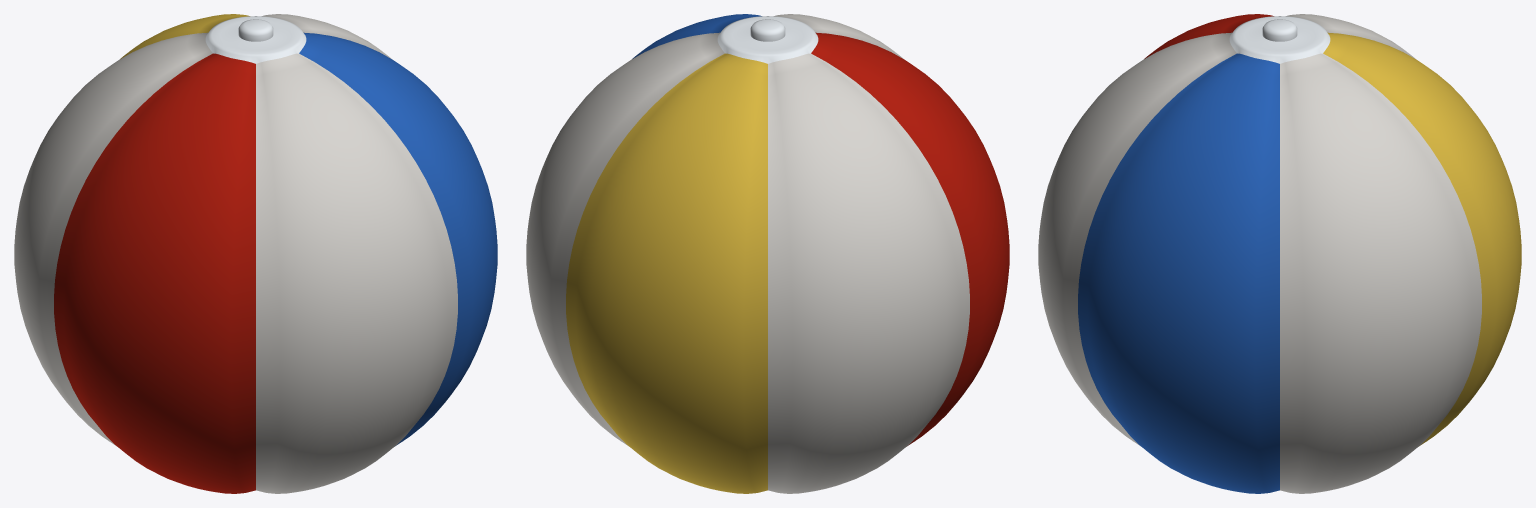
File: beach-ball-hd.glb
3 views of the same model, side by side, from view 1: azimuth 30°, elevation 25°; view 2: azimuth 150°, elevation 25°; view 3: azimuth 270°, elevation 25° (orthographic).
Visible parts, largest first — view 1: beach-ball-hd; view 2: beach-ball-hd; view 3: beach-ball-hd.
Part boxes in pixels (x1=…): beach-ball-hd: x1=14, y1=14, x2=497, y2=493; beach-ball-hd: x1=526, y1=14, x2=1009, y2=493; beach-ball-hd: x1=1038, y1=14, x2=1521, y2=493.
Bounding box in the file's own units: 1.96 × 2.05 × 2.
